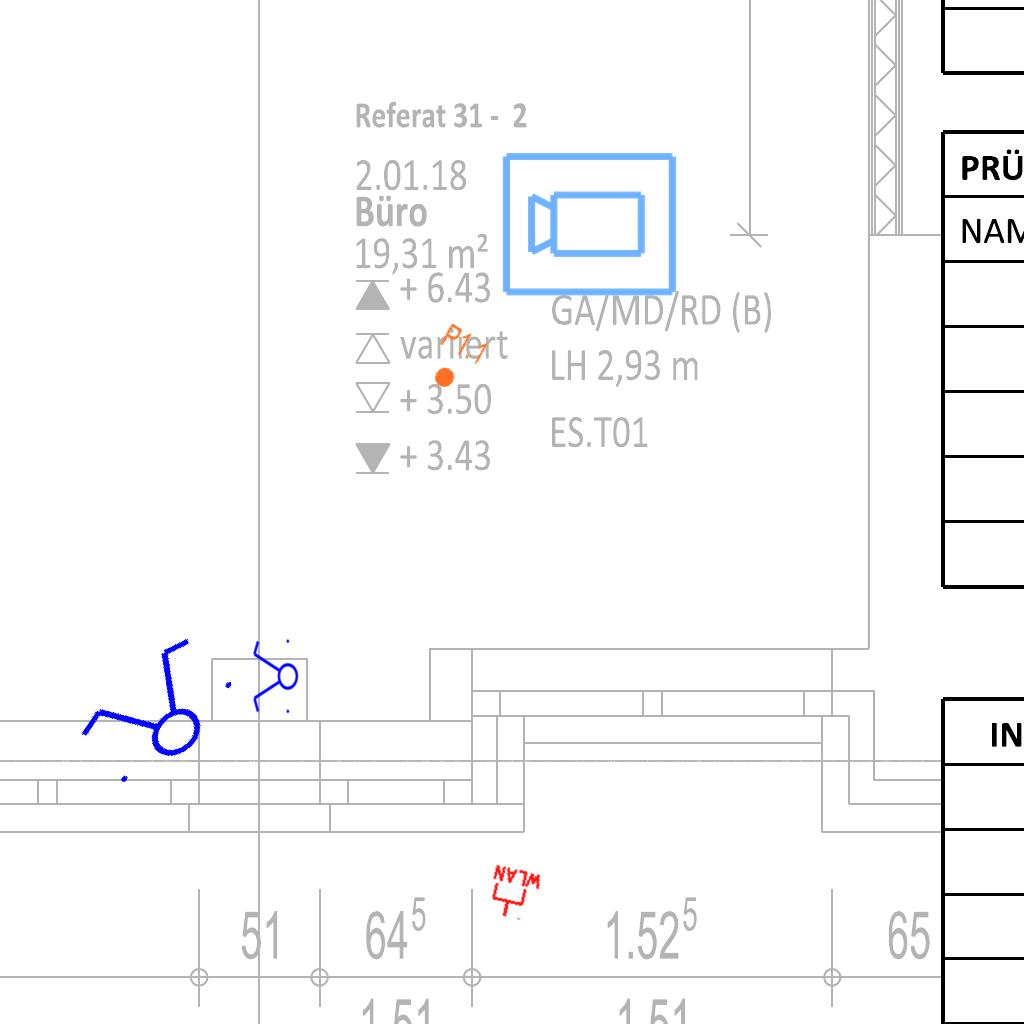Downlight_LED_Einbauleuchten_Flur: (420, 320, 492, 400)
KFO_Kamera_mit_Festobjektiv: (499, 146, 681, 300)
Serienschalter: (63, 622, 253, 806), (251, 635, 299, 719)
WLAN: (482, 862, 546, 926)
